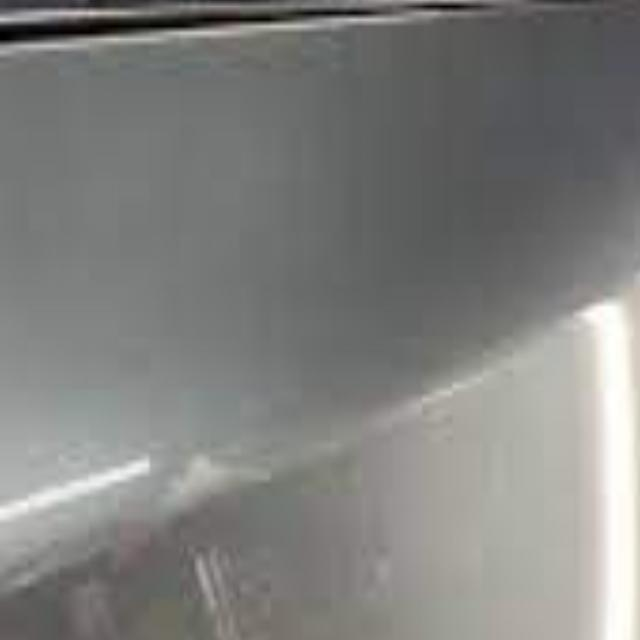dents: (53, 532, 134, 640), (356, 521, 423, 625)
